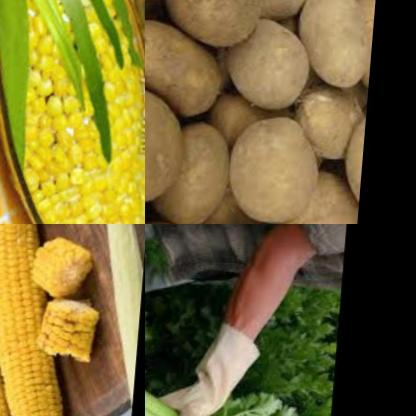corn: (15, 0, 145, 224), (0, 224, 96, 416), (0, 224, 48, 416), (38, 291, 109, 369), (26, 235, 103, 302)
potato: (224, 108, 338, 224), (154, 101, 239, 224), (145, 13, 236, 122), (229, 16, 322, 111), (295, 0, 376, 100), (288, 74, 371, 170), (145, 69, 196, 213), (160, 0, 263, 57), (279, 162, 365, 224)
